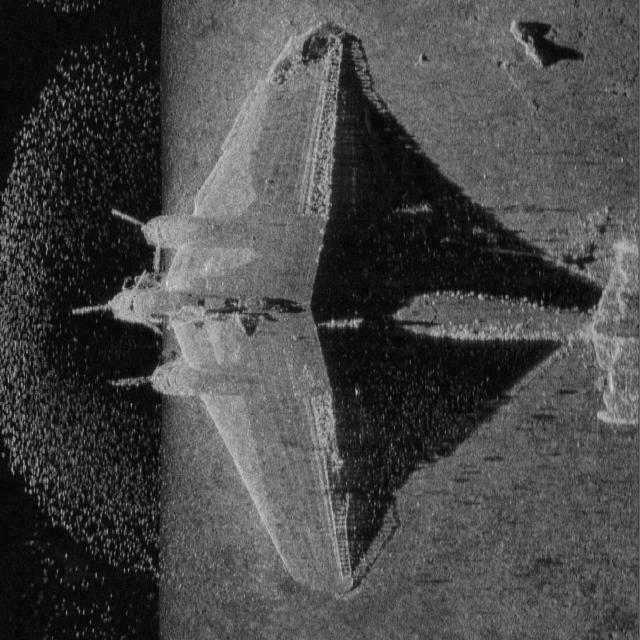plane: (77, 17, 489, 606)
